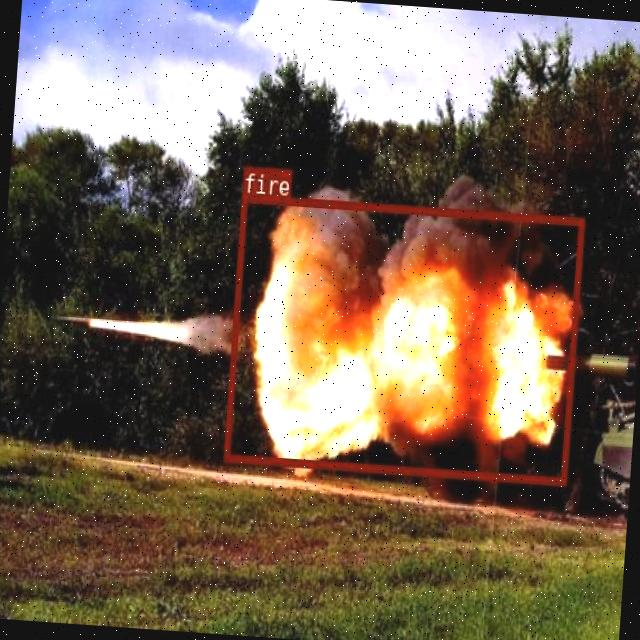fire: (222, 194, 584, 484)
